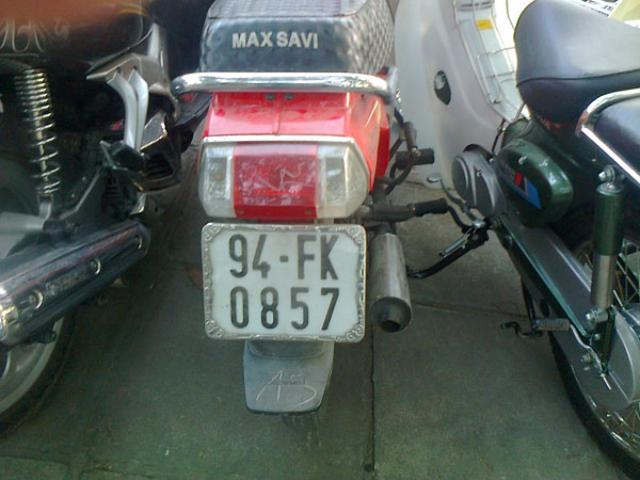plate: (201, 222, 365, 344)
